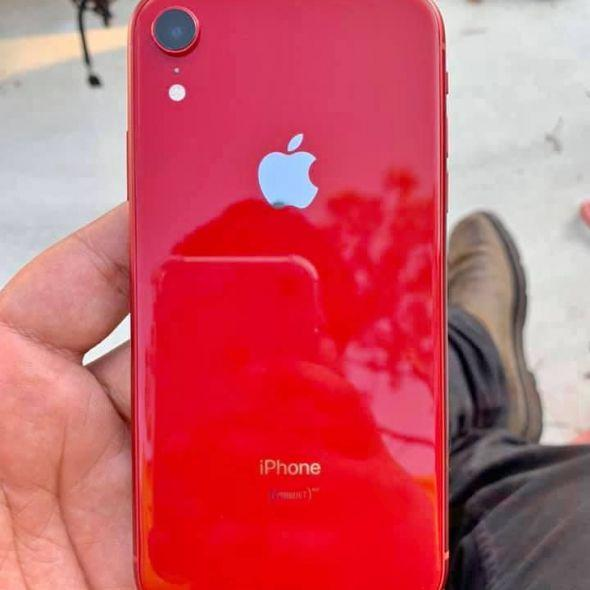apple: (229, 116, 351, 236)
